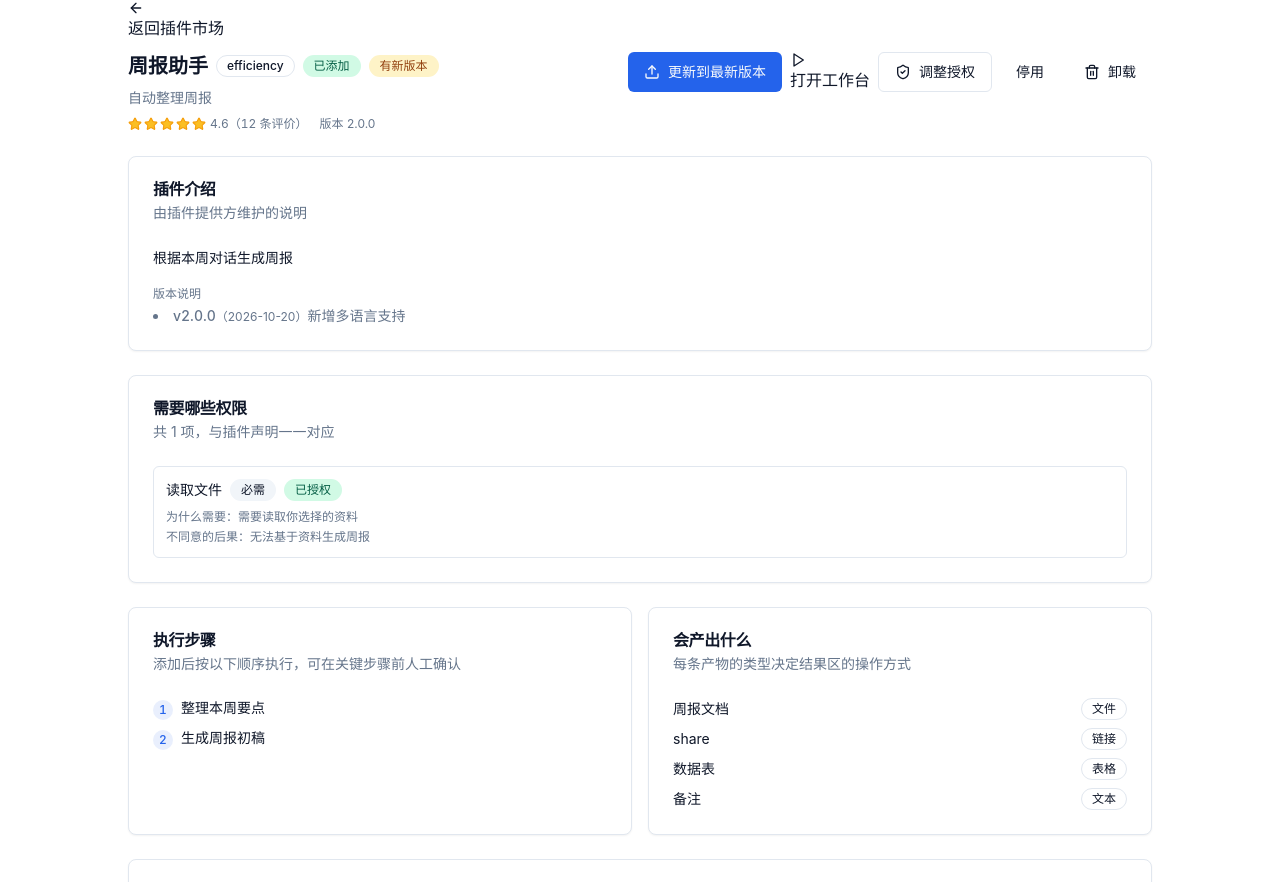
Test case: 插件详情页 › 卸载走二次确认并说明历史任务保留口径
Later steps or results of the test are not shown.
Step 1. Click the button "卸载" → point(1110, 72), box [1068,52,1152,92]
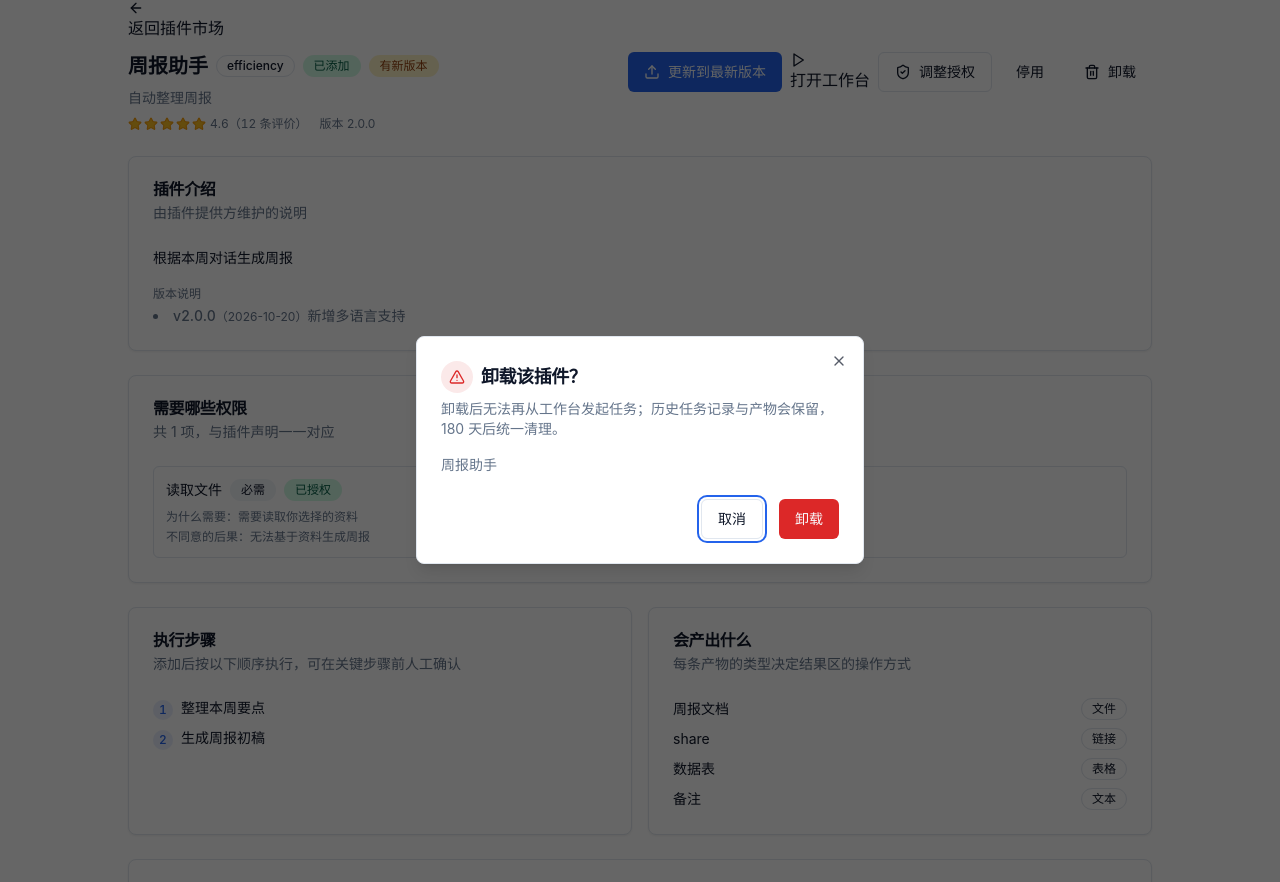
expect the text "卸载该插件？" is shown: met, box [481,368,586,386]
expect the text "历史任务记录与产物会保留，180 天后统一清理" is shown: met, box [441,400,833,437]
